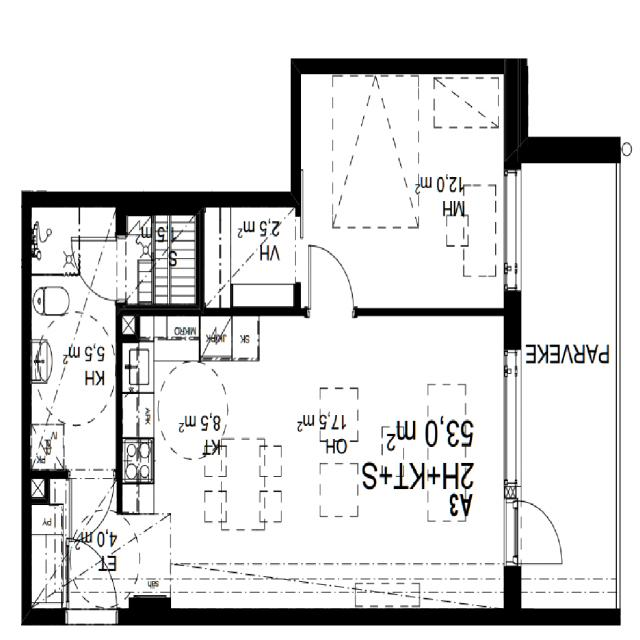door: (66, 538, 116, 624), (504, 500, 565, 562), (70, 237, 126, 300), (308, 244, 354, 315), (69, 469, 113, 541)
